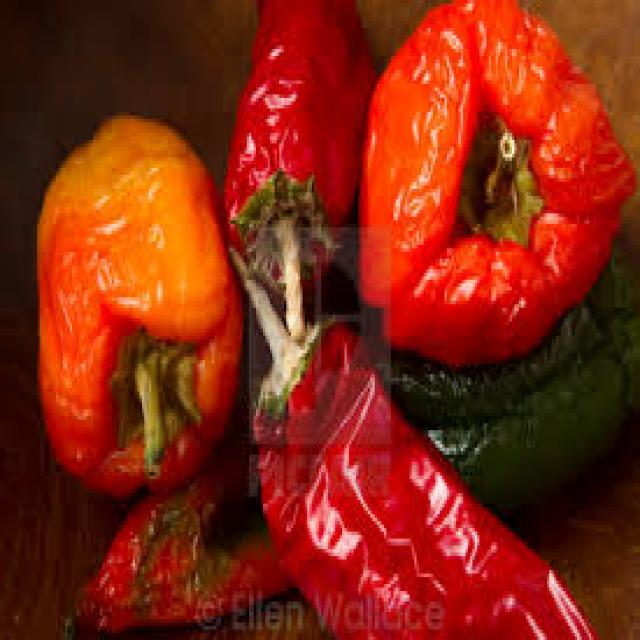organic waste: (226, 234, 591, 636), (353, 0, 638, 364), (32, 109, 240, 493), (372, 238, 638, 514), (58, 406, 293, 636), (219, 0, 372, 336)
